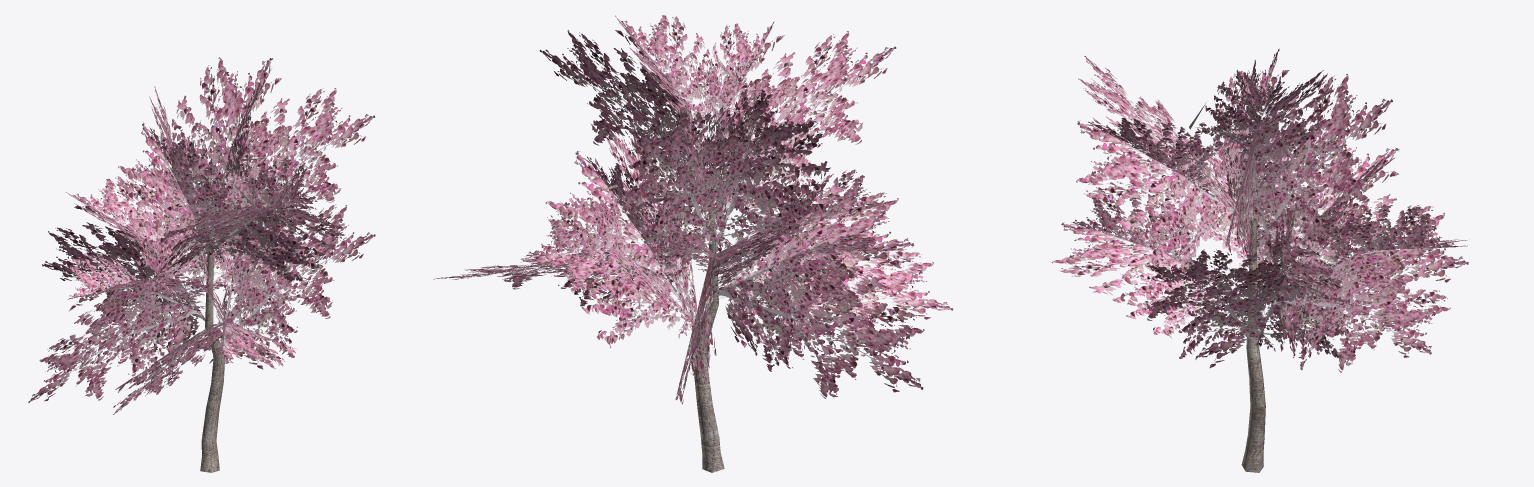
File: VEG0210051.fbx
3 views of the same model, side by side, from view 1: azimuth 30°, elevation 25°; view 2: azimuth 150°, elevation 25°; view 3: azimuth 270°, elevation 25° (orthographic). The views are drawn at different scales.
Parts seen in each view (by area): view 1: smVEG0210051; view 2: smVEG0210051; view 3: smVEG0210051.
Part boxes in pixels (x1,y1,x2,y2): smVEG0210051: (28,57,375,472); smVEG0210051: (433,15,952,472); smVEG0210051: (1051,48,1469,472).
Bounding box in the file's own units: 703 × 749 × 769.
1 material, 1 textured.
